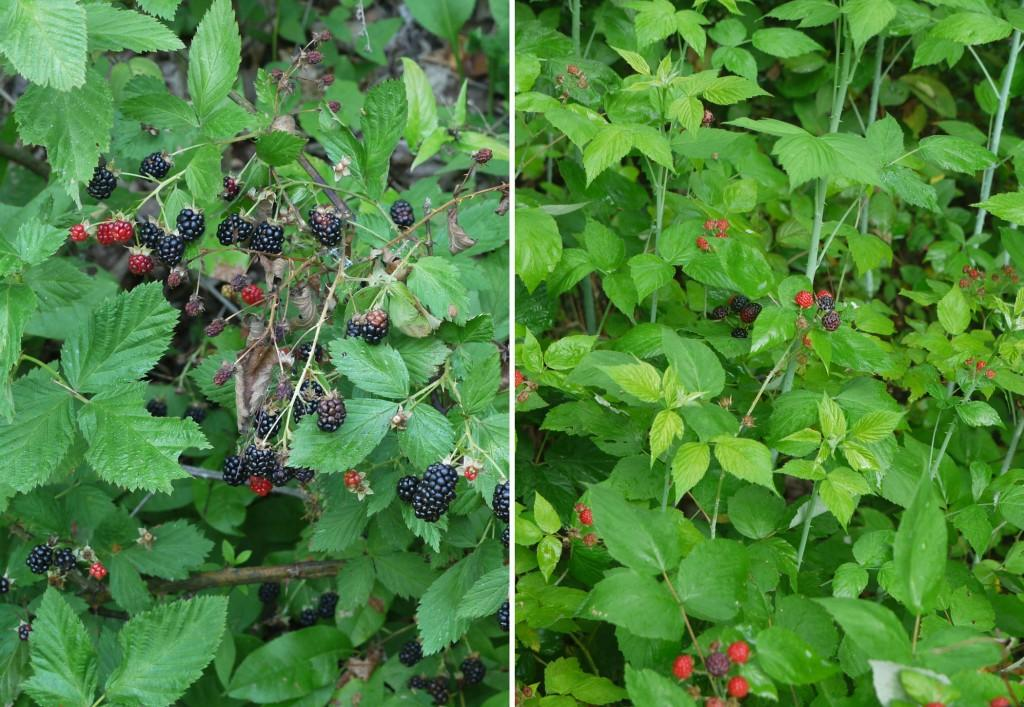Raspberry leaf: (58, 276, 187, 402), (103, 591, 236, 705), (76, 383, 200, 499), (278, 392, 414, 475), (1, 360, 85, 493), (1, 1, 95, 97), (191, 2, 248, 120)
